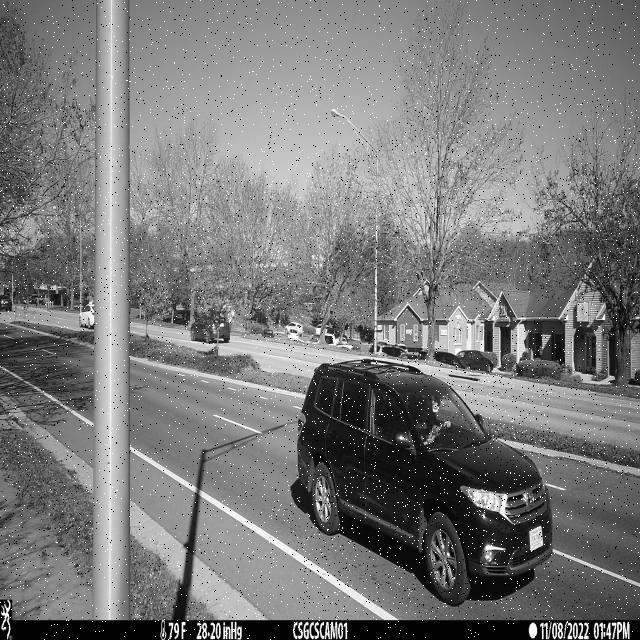SUV: (298, 358, 552, 607)
